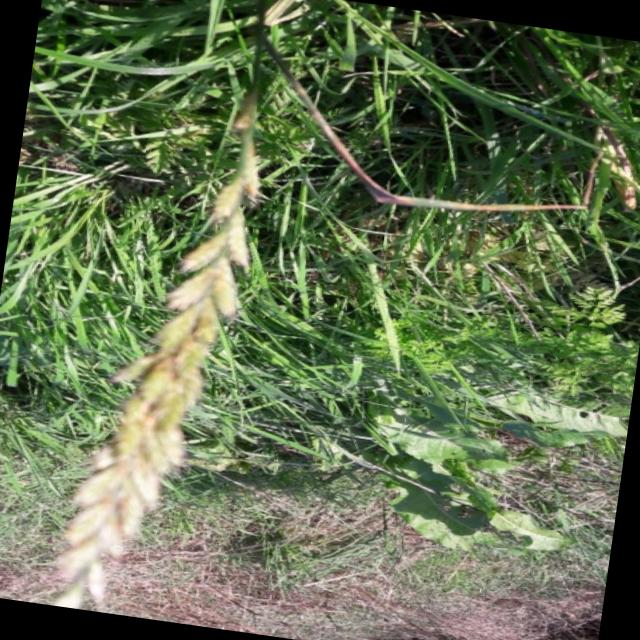Lolium: (0, 0, 640, 640), (29, 124, 282, 628)
